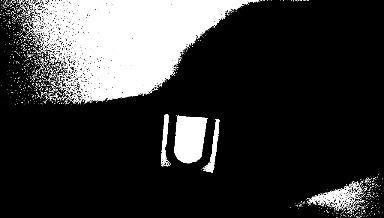U: (164, 113, 218, 169)
